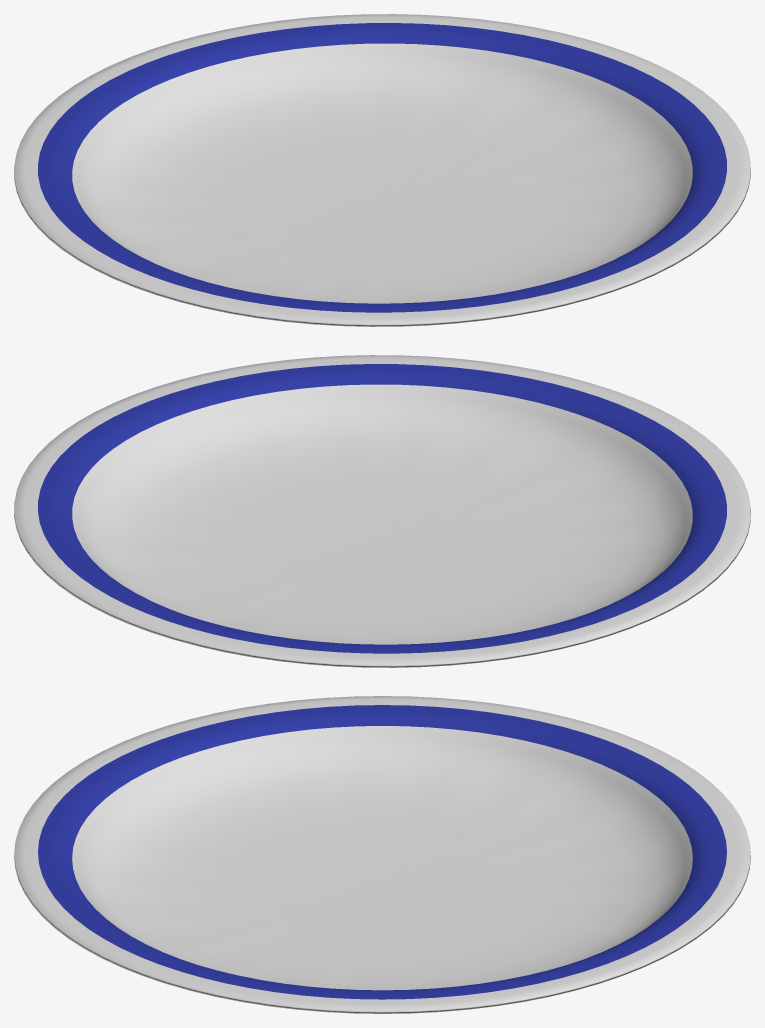
Rendered from Dish.fbx.
The picture shows the model from 3 angles, top to bottom: view 1: azimuth 30°, elevation 25°; view 2: azimuth 150°, elevation 25°; view 3: azimuth 270°, elevation 25°; orthographic projection.
Parts seen in each view (by area): view 1: pCylinder1; view 2: pCylinder1; view 3: pCylinder1.
Boxes of the visible parts, x1=… form: pCylinder1: x1=14, y1=14, x2=750, y2=326; pCylinder1: x1=14, y1=355, x2=750, y2=667; pCylinder1: x1=14, y1=696, x2=750, y2=1013.
Size of the model in its own units: 6.25 by 0.9252 by 6.18.
